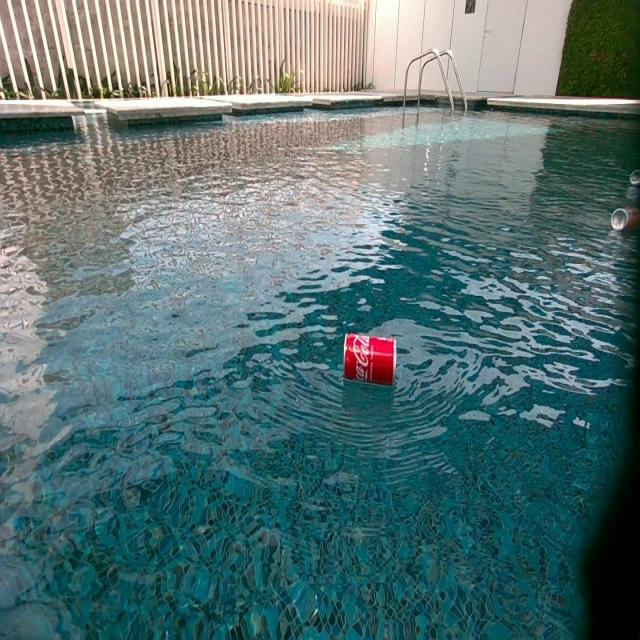Cans: (342, 332, 395, 388), (613, 208, 640, 233), (630, 169, 640, 186)
